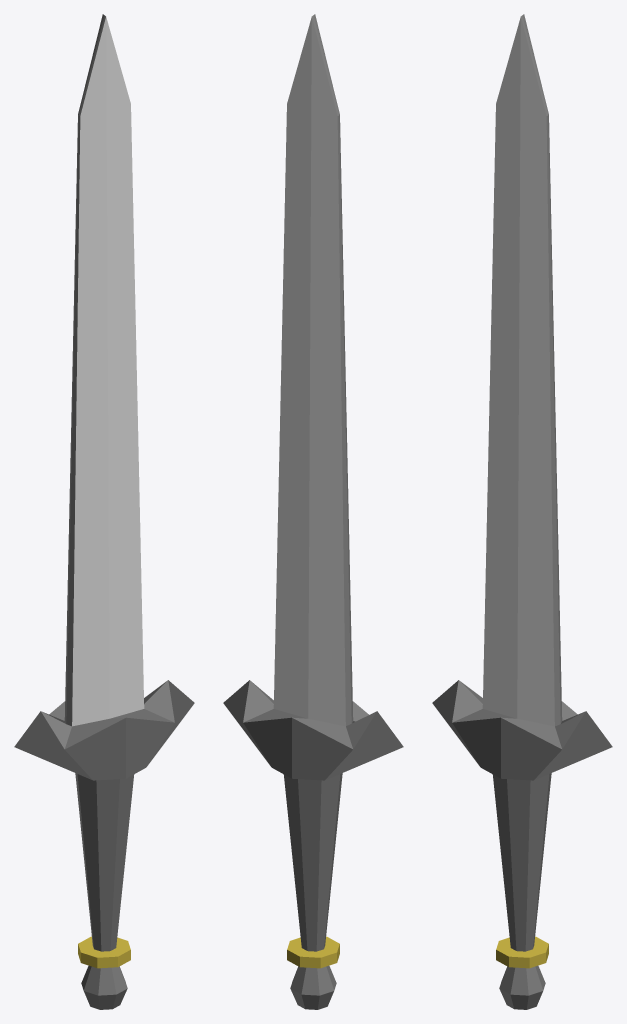
The model's file is ESPADA.fbx.
The picture shows the model from 3 angles, left to right: view 1: azimuth 30°, elevation 25°; view 2: azimuth 150°, elevation 25°; view 3: azimuth 330°, elevation 25°; orthographic projection.
Parts seen in each view (by area): view 1: Circle; view 2: Circle; view 3: Circle.
Boxes of the visible parts, x1,y1,x2,y2 form: Circle: [14, 14, 194, 1009]; Circle: [223, 14, 403, 1009]; Circle: [432, 14, 612, 1009].
Bounding box in the file's own units: 91.28 × 479 × 37.86.
